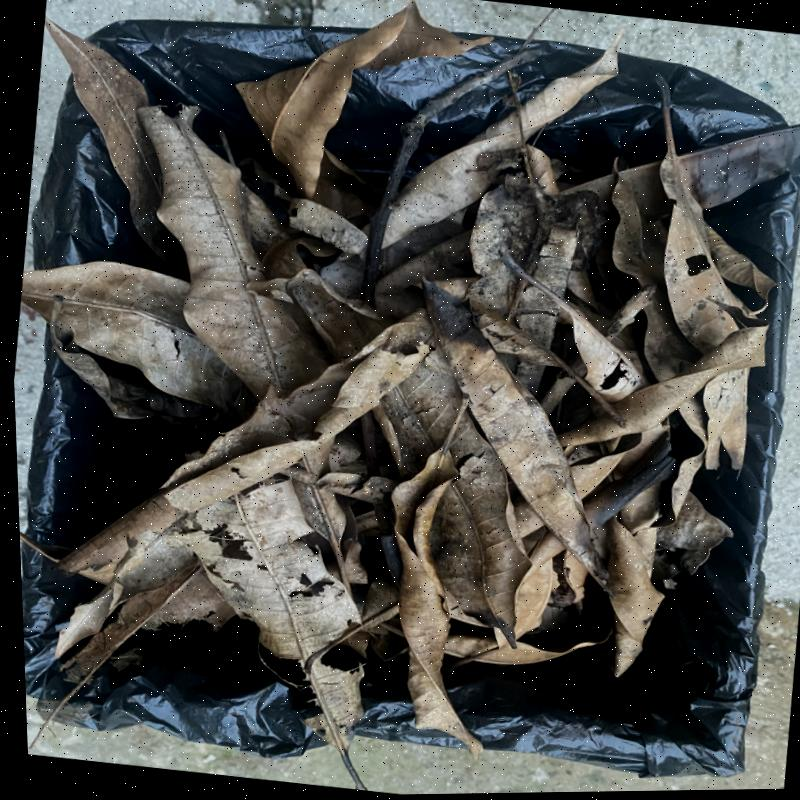treeleaves: (53, 342, 429, 585), (421, 276, 615, 599), (136, 106, 331, 401), (235, 0, 493, 217), (382, 28, 624, 249), (20, 261, 259, 434), (44, 16, 189, 282), (170, 473, 361, 662), (654, 74, 776, 347), (391, 394, 482, 757), (556, 296, 771, 445), (159, 355, 367, 488), (429, 408, 533, 649), (343, 308, 464, 485), (611, 156, 704, 382), (48, 325, 208, 450), (600, 481, 664, 677), (443, 605, 615, 665), (306, 644, 368, 790)
